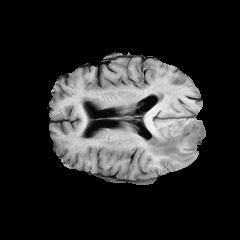glioma: (146, 120, 205, 161)
